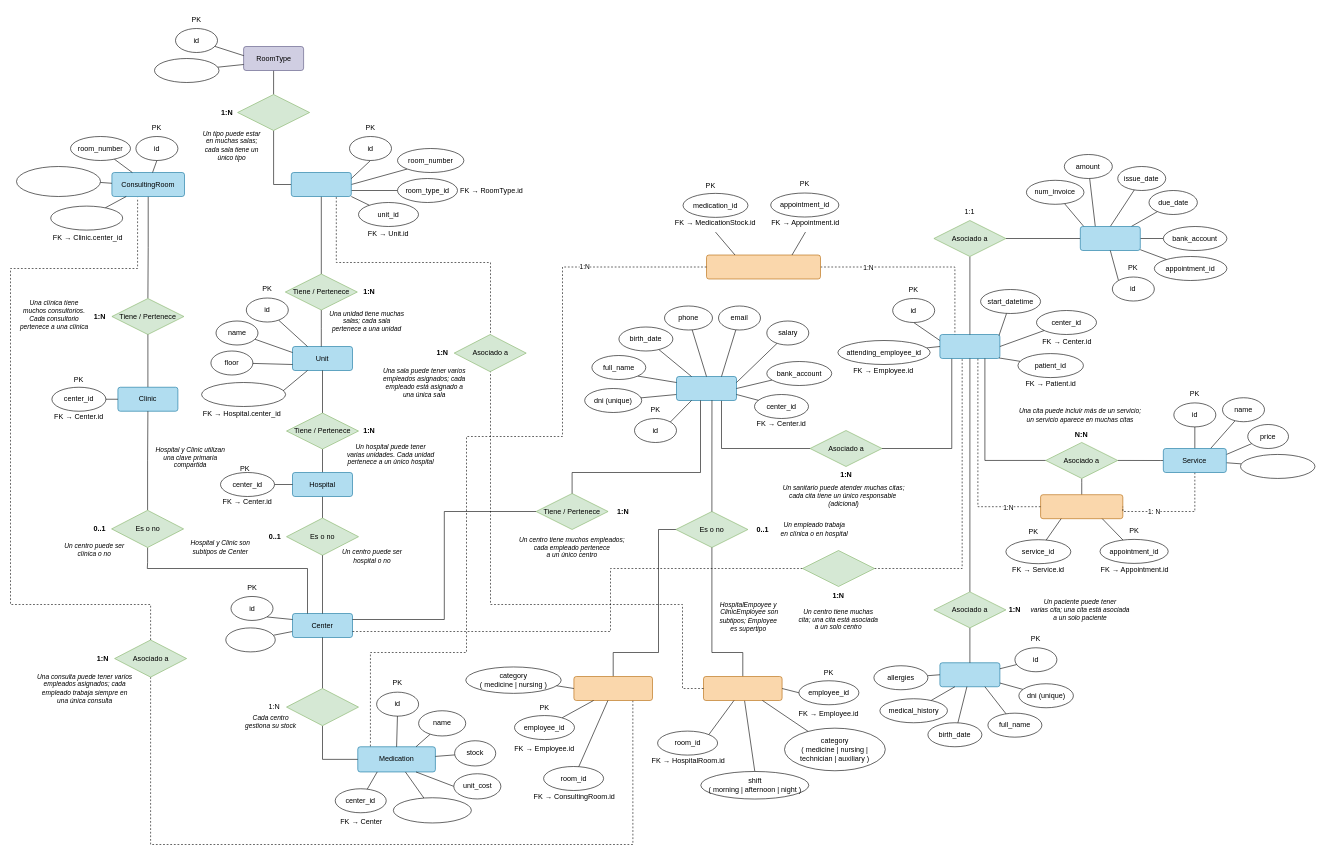
This 1326x856 diagram has some shape labels left out. Each missing label, with the box of its shape:
address: (225, 627, 275, 652)
administration_price: (393, 797, 471, 823)
Appointment: (939, 334, 1000, 358)
AppointmentMedication: (706, 254, 820, 279)
AppointmentService: (1040, 494, 1123, 519)
clinic_center_id: (50, 206, 123, 230)
ClinicEmployee: (573, 676, 652, 700)
duration_minutes: (1240, 454, 1315, 478)
Employee: (676, 376, 736, 400)
Es: (237, 94, 310, 130)
hospital_center_id: (201, 382, 286, 406)
HospitalEmployee: (703, 676, 782, 700)
HospitalRoom: (291, 172, 351, 196)
Invoice: (1080, 226, 1140, 250)
name (unique): (154, 58, 219, 82)
Patient: (939, 662, 1000, 687)
purpose ( medicine | nursing ): (16, 166, 100, 196)
Tiene: (286, 688, 358, 726)
Tiene / Asociado a: (802, 550, 874, 586)
